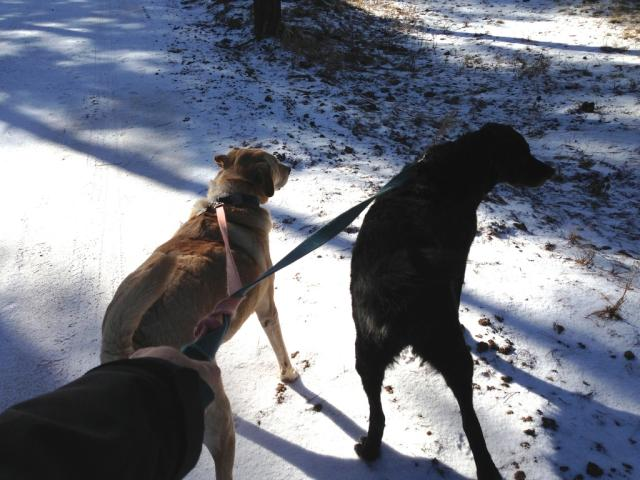Dog: (348, 122, 556, 480), (100, 147, 300, 382), (0, 346, 237, 480)
